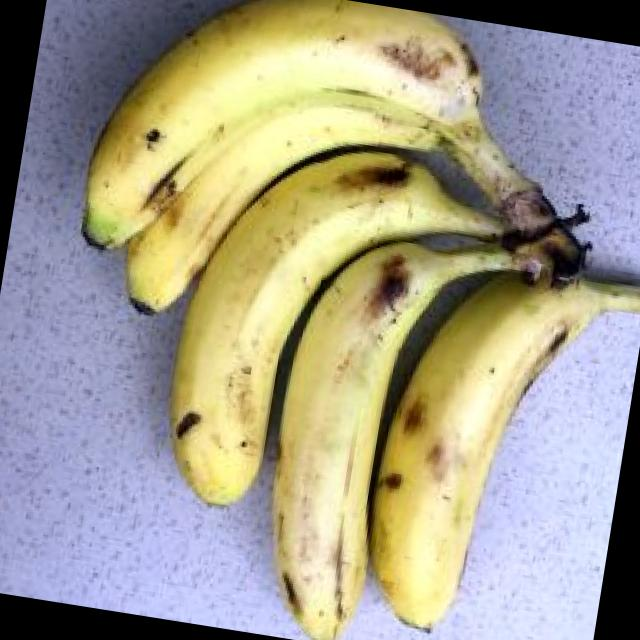banana: (108, 28, 578, 522)
